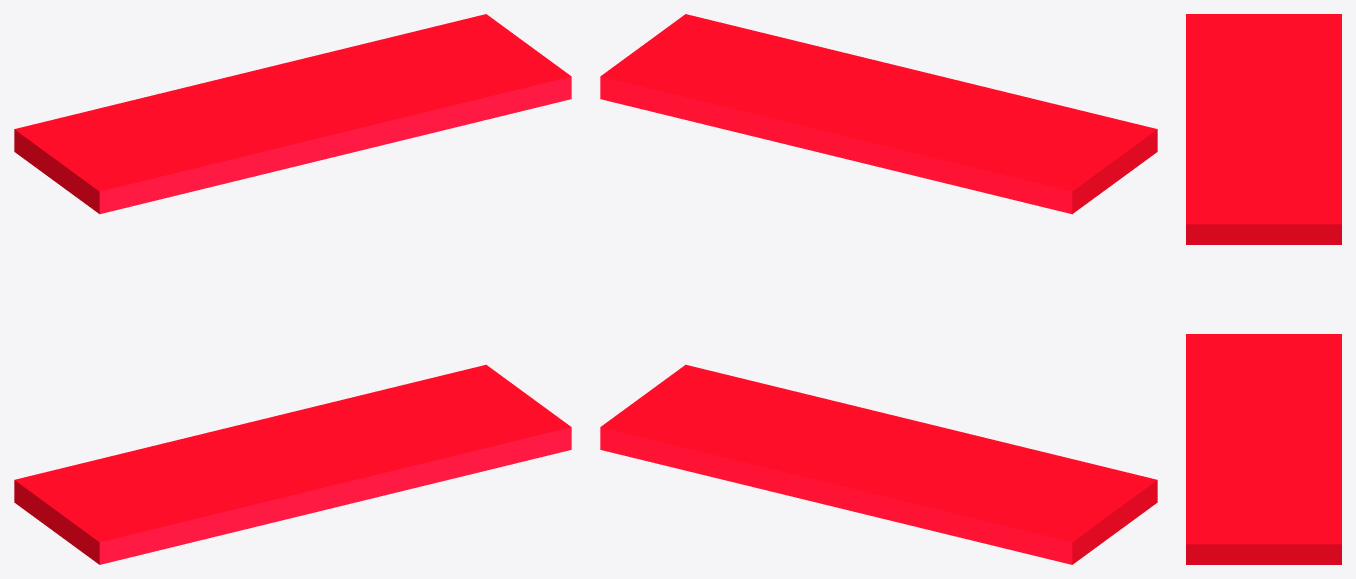
The model's file is f533e1ad-2b1a-4c6d-920e-b79f0ecbf14b.glb.
3 renders of one model, left to right at view 1: azimuth 30°, elevation 25°; view 2: azimuth 150°, elevation 25°; view 3: azimuth 270°, elevation 25°, orthographic. The views are drawn at different scales.
Parts seen in each view (by area): view 1: =_AlphaProta_Red; view 2: =_AlphaProta_Red; view 3: =_AlphaProta_Red.
Boxes of the visible parts, x1=… form: =_AlphaProta_Red: x1=14, y1=14, x2=571, y2=564; =_AlphaProta_Red: x1=600, y1=14, x2=1157, y2=564; =_AlphaProta_Red: x1=1186, y1=14, x2=1341, y2=564.
Size of what is drawn, in the model's own units: 0.1436 by 0.1086 by 0.045.
2 materials, 2 textured.
